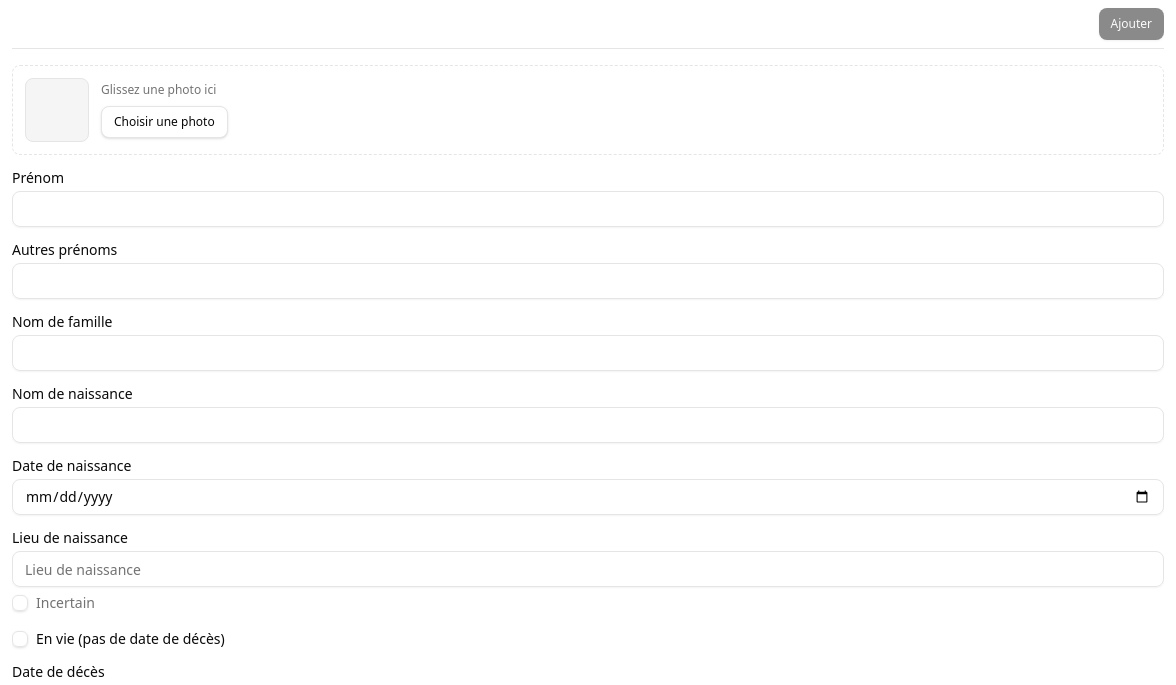
Test: PersonForm validation › shows an error when the given name is cleared
In the field labelled "Prénom": (588, 209) [12, 191, 1164, 227], type "Ada"
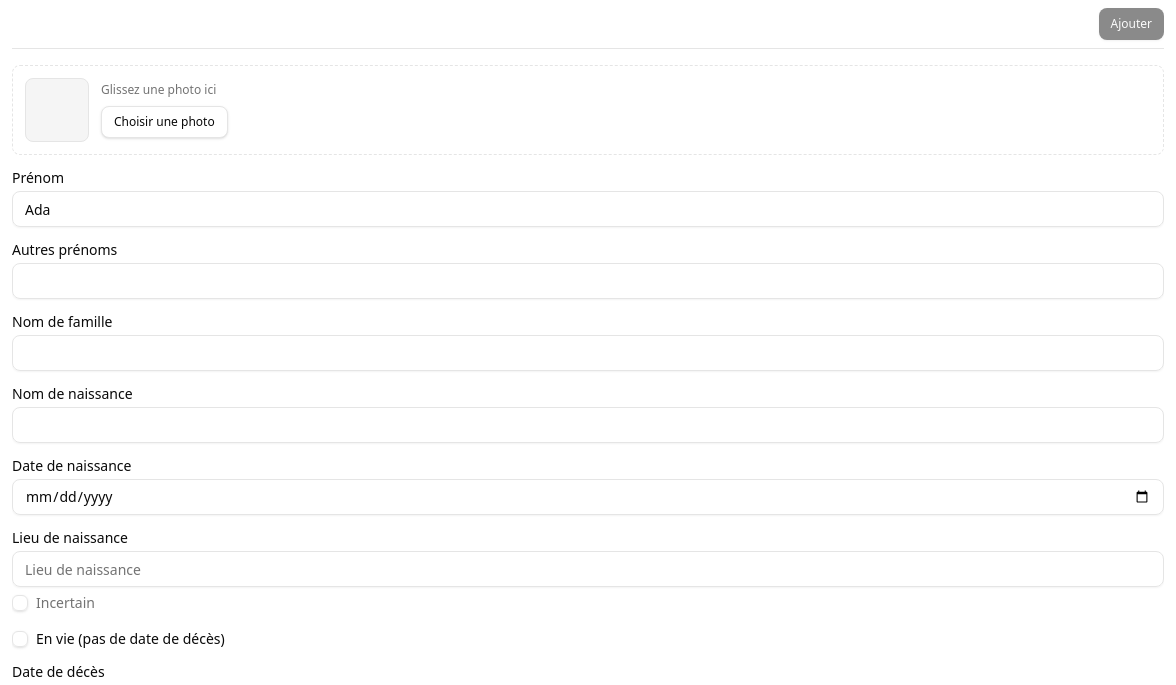
Clear the field labelled "Prénom": (588, 209) [12, 191, 1164, 227]
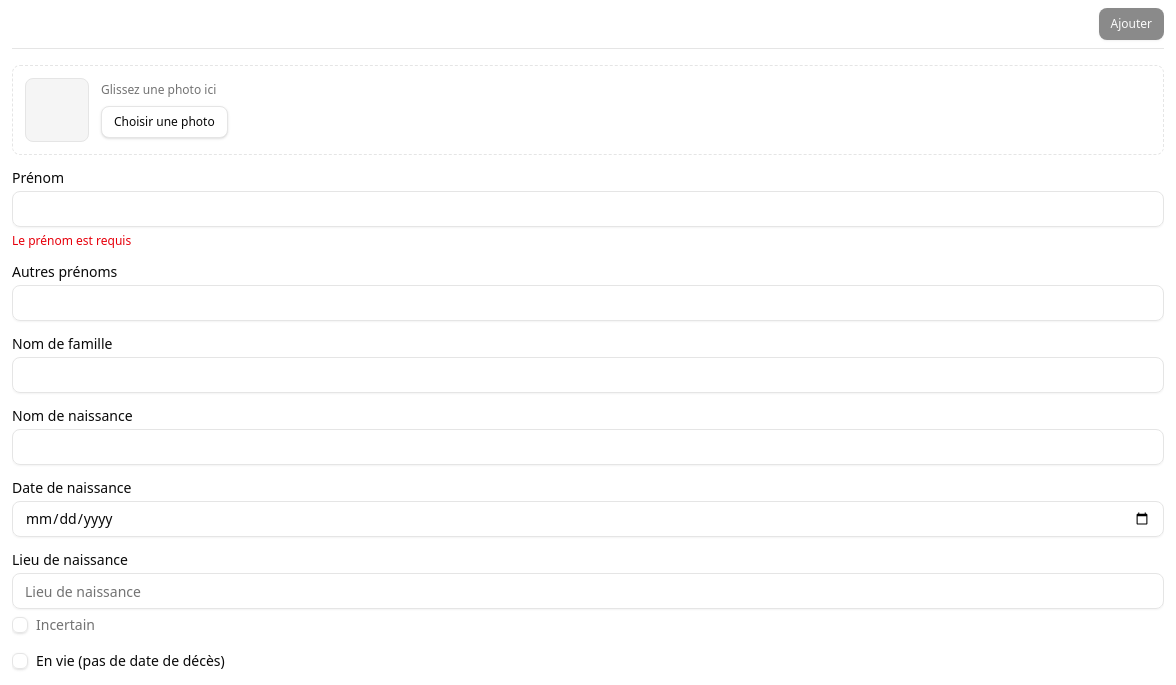
Now the text "Le prénom est requis" is shown, box [12, 232, 131, 249]
